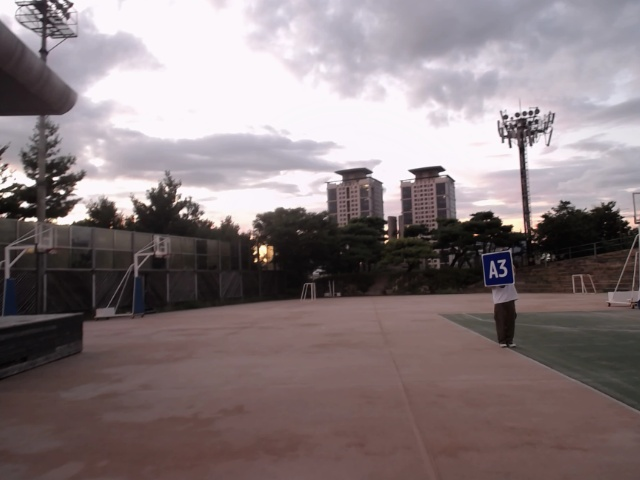delivery_a3: (479, 251, 514, 286)
